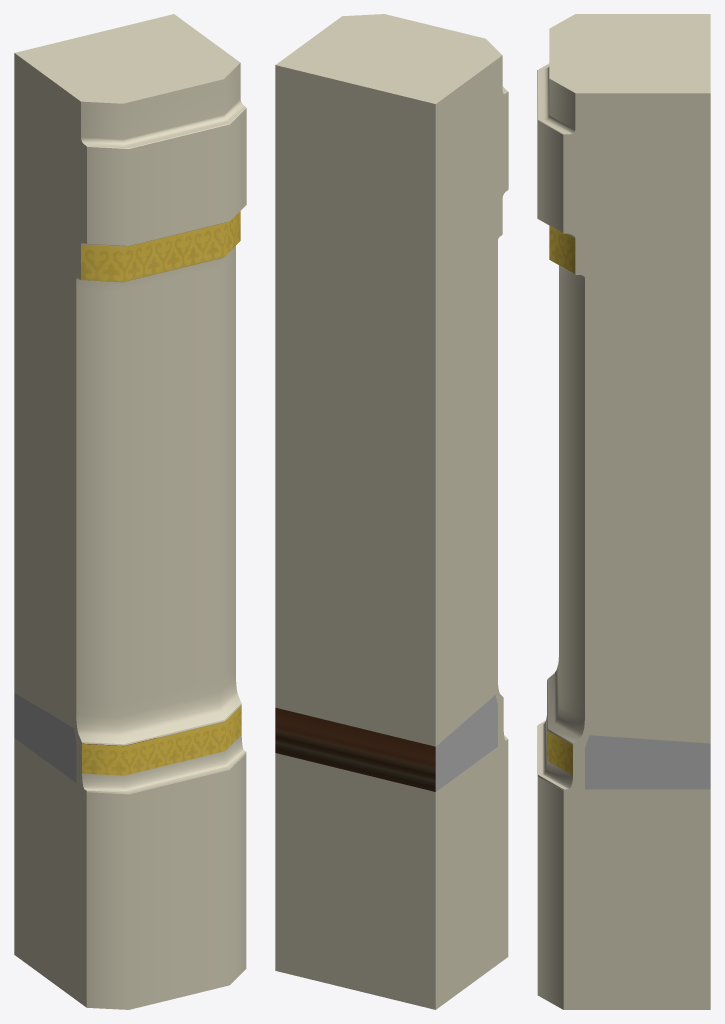
The model's file is pillar1.fbx.
3 views of the same model, side by side, from view 1: azimuth 30°, elevation 25°; view 2: azimuth 150°, elevation 25°; view 3: azimuth 270°, elevation 25° (orthographic).
Visible parts, largest first — view 1: pCube3; view 2: pCube3; view 3: pCube3.
Boxes of the visible parts, x1=… form: pCube3: x1=14, y1=14, x2=246, y2=1009; pCube3: x1=275, y1=14, x2=508, y2=1009; pCube3: x1=537, y1=14, x2=710, y2=1009.
Size of the model in its own units: 1.19 by 6.44 by 1.1.
